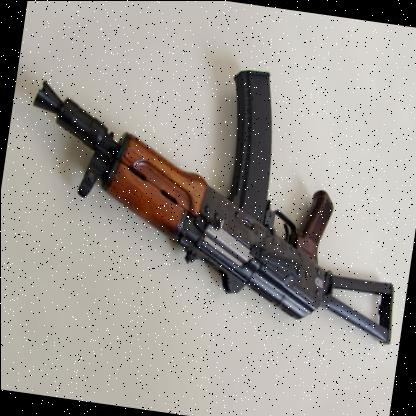rifle: (1, 31, 416, 371)
